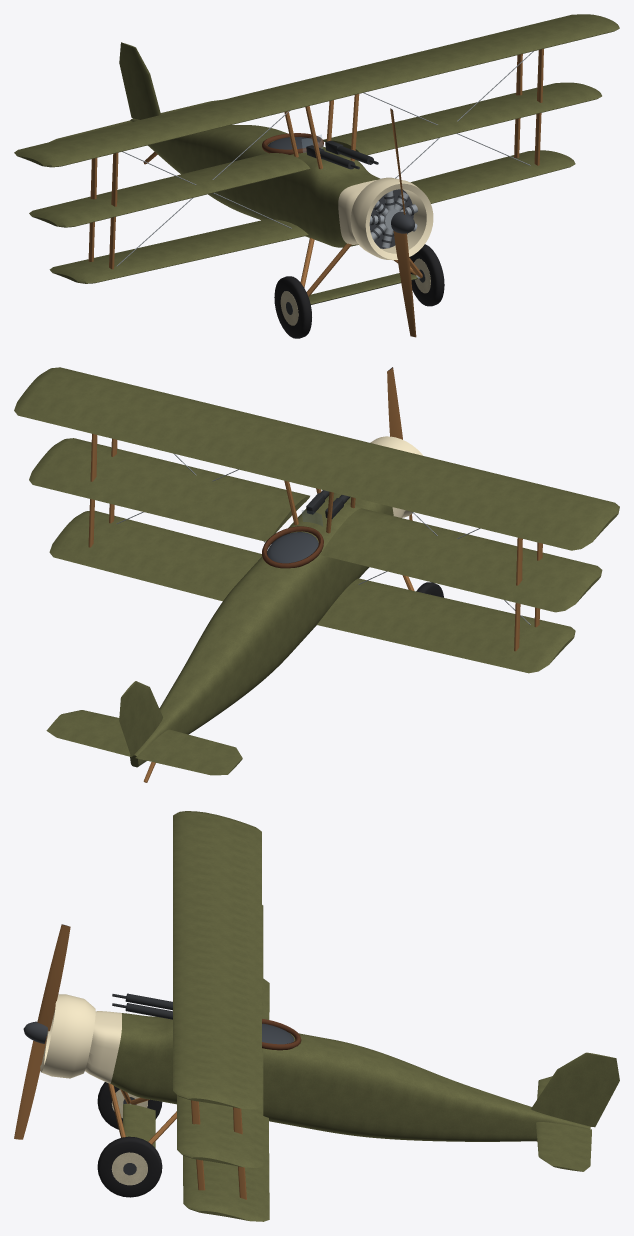
The model's file is triplane-fighter.glb.
The picture shows the model from 3 angles, top to bottom: view 1: azimuth 30°, elevation 25°; view 2: azimuth 150°, elevation 25°; view 3: azimuth 270°, elevation 25°; orthographic projection.
Visible parts, largest first — view 1: Triplane_Fighter, Propeller, Wheel_R, Wheel_L; view 2: Triplane_Fighter, Propeller; view 3: Triplane_Fighter, Wheel_L, Propeller, Wheel_R.
Boxes of the visible parts, box(x1,y1,x2,y2) form: Triplane_Fighter: box(14, 14, 619, 304); Propeller: box(369, 108, 417, 337); Wheel_R: box(274, 276, 311, 338); Wheel_L: box(409, 244, 444, 306); Triplane_Fighter: box(14, 367, 619, 782); Propeller: box(387, 367, 412, 520); Triplane_Fighter: box(40, 811, 619, 1221); Wheel_L: box(97, 1136, 162, 1197); Propeller: box(14, 924, 70, 1139); Wheel_R: box(97, 1082, 162, 1129).
Size of the model in its own units: 7.3 by 2.85 by 6.53.
Materials: 12 (2 with a texture image).
